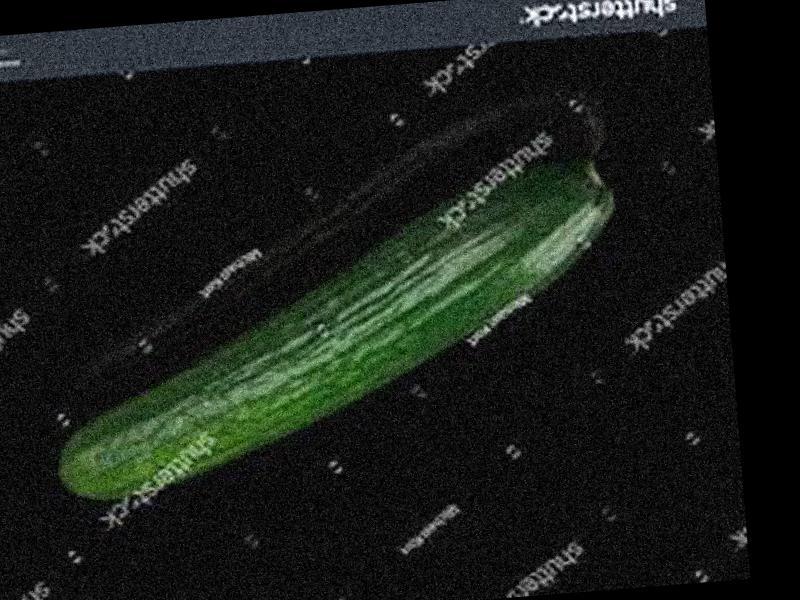Cucumber: (33, 148, 633, 505)
